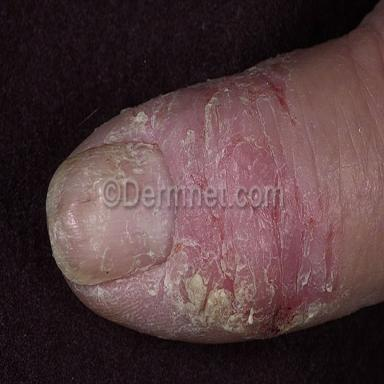eczema: (46, 59, 349, 341)
